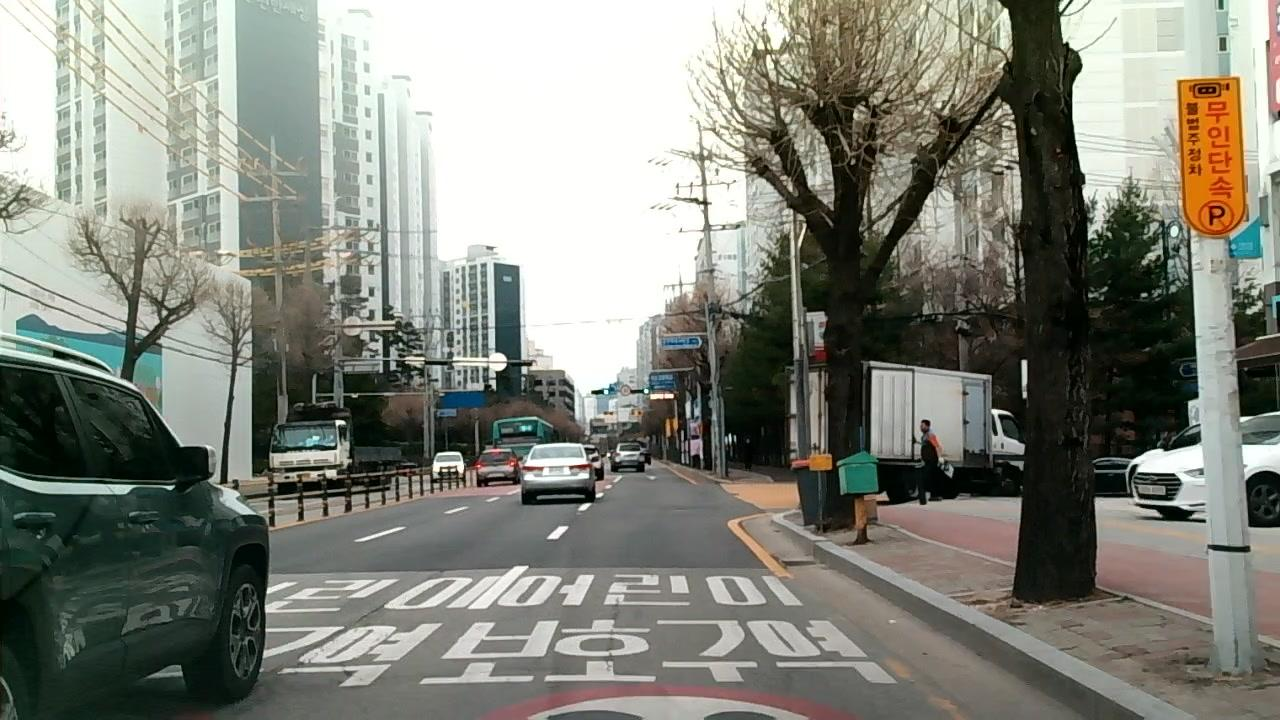banner: (288, 594, 401, 660), (601, 592, 628, 672)
